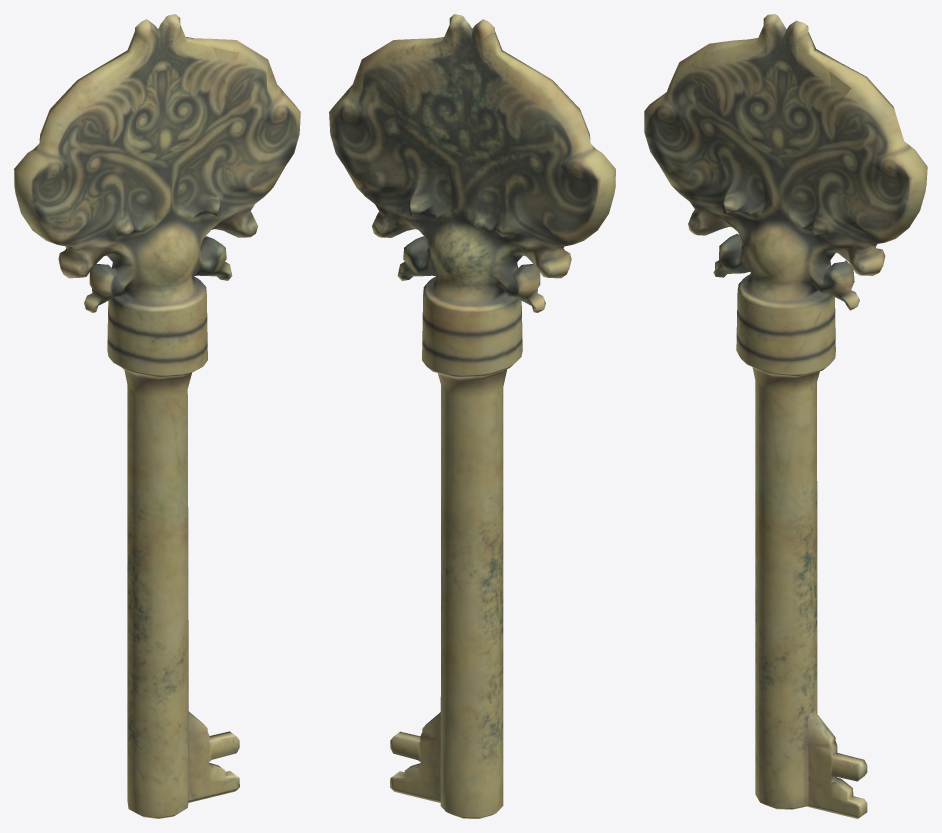
File: key_02_brass_filigree.glb
3 views of the same model, side by side, from view 1: azimuth 30°, elevation 25°; view 2: azimuth 150°, elevation 25°; view 3: azimuth 330°, elevation 25° (orthographic).
Visible parts, largest first — view 1: Key; view 2: Key; view 3: Key.
Part boxes in pixels (box(x1,y1,x2,y2)): Key: box(14, 14, 300, 818); Key: box(329, 14, 615, 818); Key: box(644, 14, 927, 818).
Size of the model in its own units: 0.0561 by 0.15 by 0.0174.
1 material, 1 textured.
